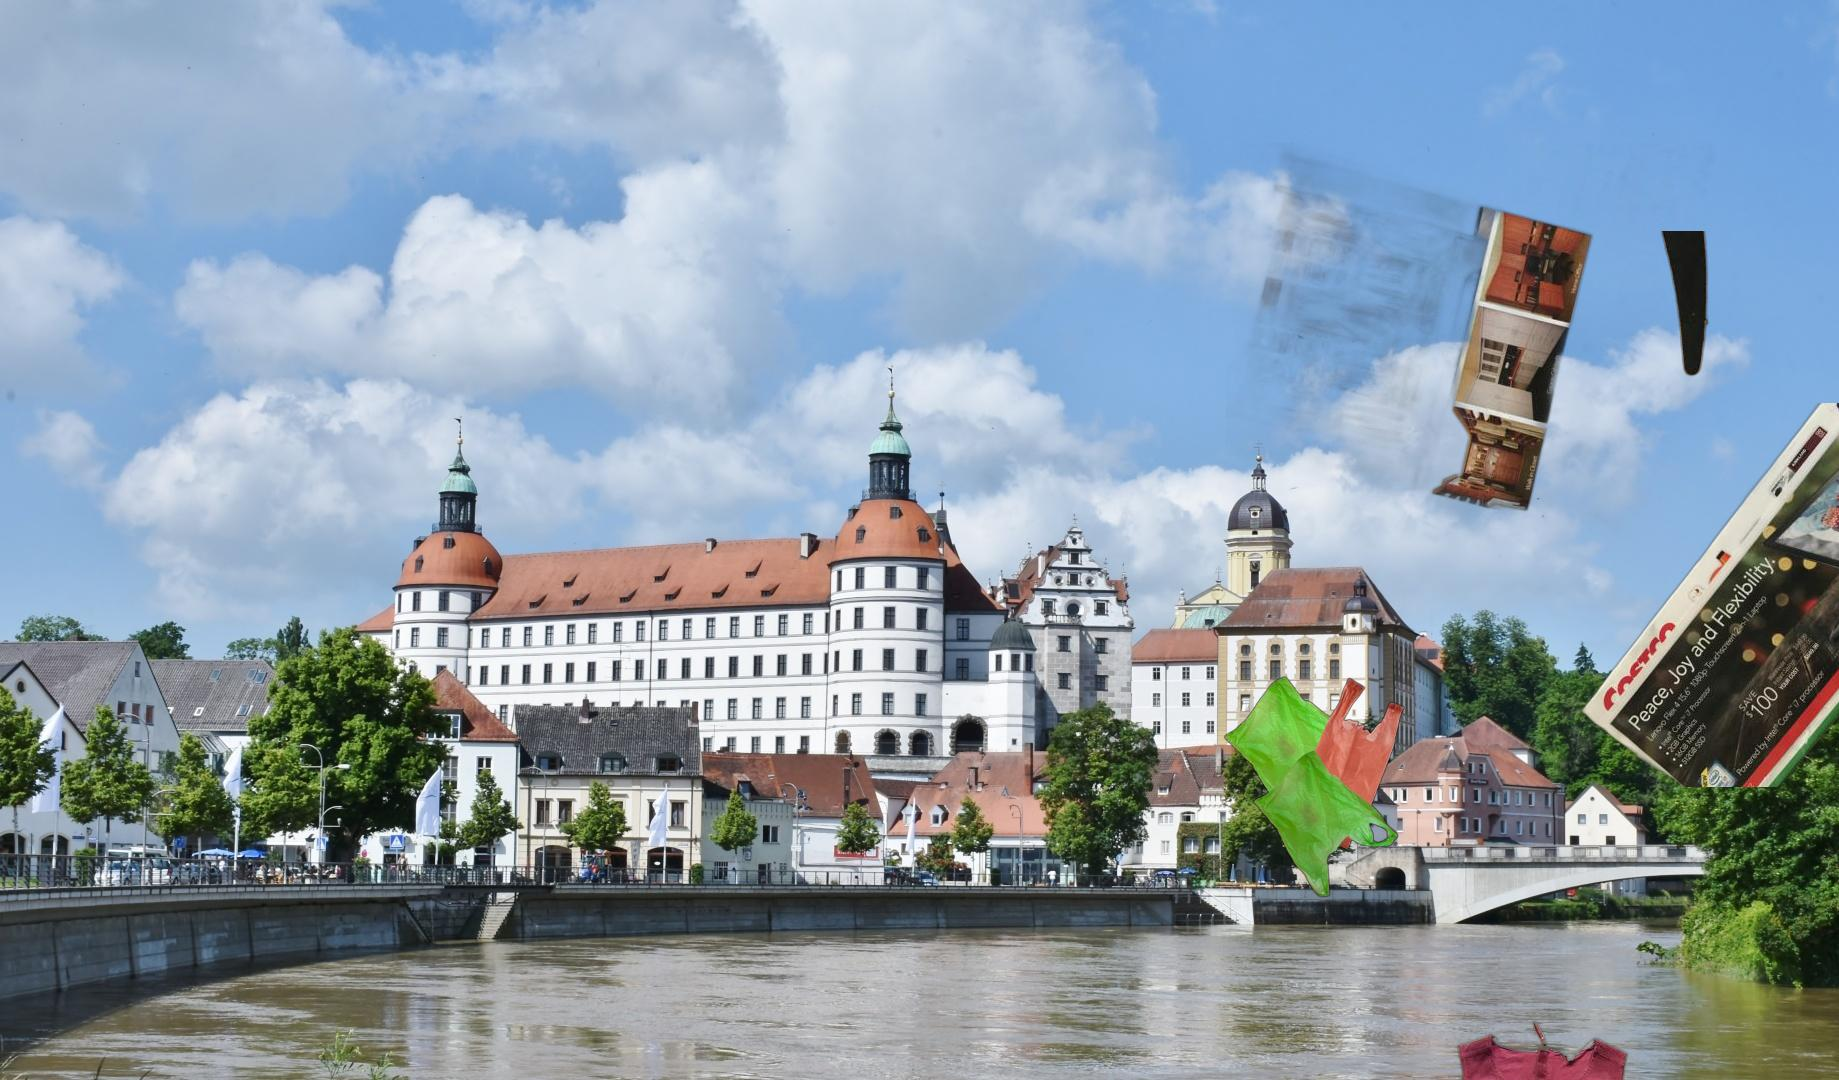clothes: (1406, 1018, 1672, 1080)
paper: (1226, 141, 1719, 526), (1577, 402, 1839, 787)
plastic-bag: (1221, 672, 1407, 900)
trashbox-cardboard: (1658, 231, 1713, 379)
